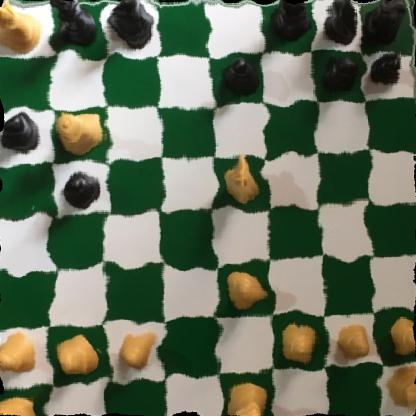black-bishop: (110, 0, 158, 49), (267, 0, 310, 41)
black-king: (49, 0, 102, 54)
black-knight: (315, 0, 362, 47)
black-pawn: (317, 51, 359, 100), (362, 50, 408, 89), (62, 170, 103, 213), (0, 115, 43, 155), (217, 58, 257, 101)
black-rook: (357, 0, 411, 50)
white-bishop: (0, 2, 45, 53)
white-king: (221, 377, 269, 416)
white-knight: (218, 154, 262, 208)
white-pawn: (53, 330, 101, 380), (117, 325, 163, 373), (277, 320, 321, 368), (0, 327, 41, 376), (224, 267, 266, 314), (328, 320, 377, 360), (380, 314, 416, 361)
white-queen: (49, 105, 105, 155)
white-rook: (379, 357, 416, 416), (0, 387, 43, 416)
